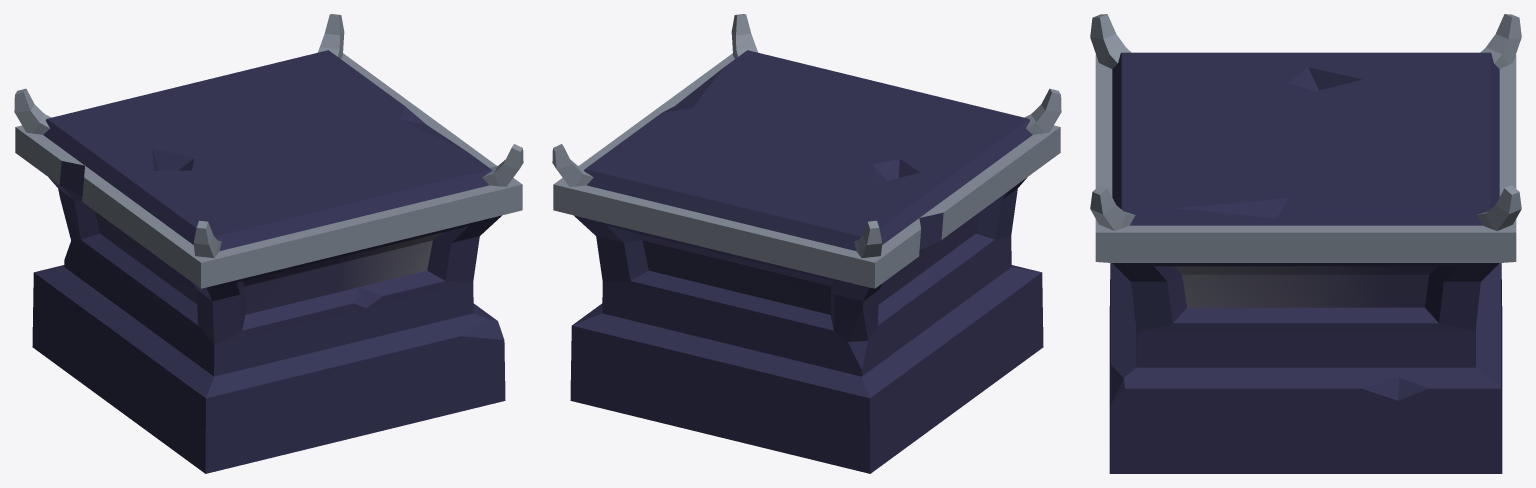
The model's file is samurai_SM_Bld_Roof_Cap_01.gltf.
3 views of the same model, side by side, from view 1: azimuth 30°, elevation 25°; view 2: azimuth 150°, elevation 25°; view 3: azimuth 270°, elevation 25° (orthographic). The views are drawn at different scales.
Parts seen in each view (by area): view 1: SM_Bld_Roof_Cap_01; view 2: SM_Bld_Roof_Cap_01; view 3: SM_Bld_Roof_Cap_01.
Boxes of the visible parts, x1=… form: SM_Bld_Roof_Cap_01: x1=14, y1=14, x2=523, y2=473; SM_Bld_Roof_Cap_01: x1=552, y1=14, x2=1061, y2=473; SM_Bld_Roof_Cap_01: x1=1090, y1=14, x2=1521, y2=473.
Bounding box in the file's own units: 1.33 × 0.9854 × 1.33.
Materials: 1 (1 with a texture image).
